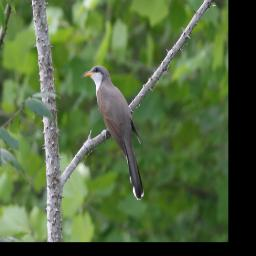Cuckoo: (81, 63, 146, 202)
